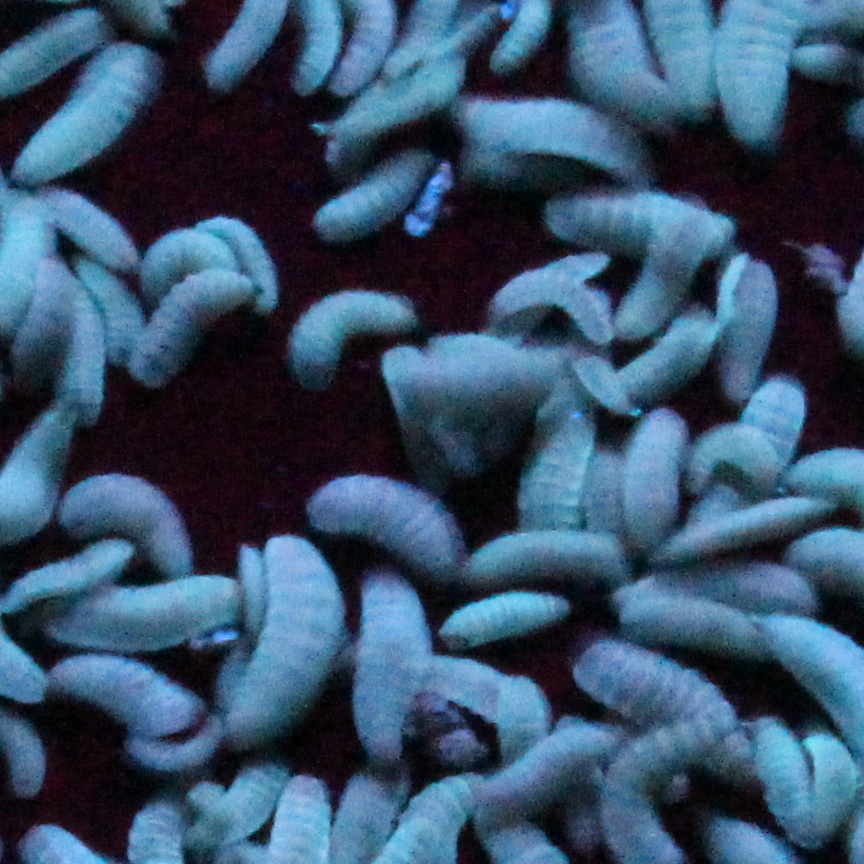larve: (227, 537, 331, 753), (12, 42, 157, 184), (120, 270, 267, 386), (462, 98, 653, 184), (315, 470, 465, 577), (469, 723, 621, 827), (63, 480, 203, 577), (289, 286, 420, 389), (354, 587, 429, 760), (546, 196, 738, 258), (55, 658, 196, 732), (751, 711, 829, 842), (322, 149, 439, 230), (467, 527, 621, 585), (27, 189, 139, 263), (632, 408, 689, 553), (481, 280, 610, 342), (444, 592, 574, 651), (720, 261, 772, 406), (694, 430, 781, 501)
